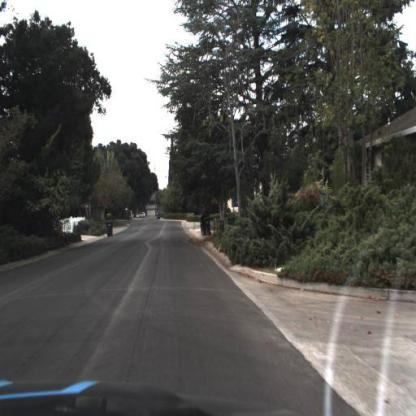car: (157, 209, 168, 221), (140, 213, 145, 219)
